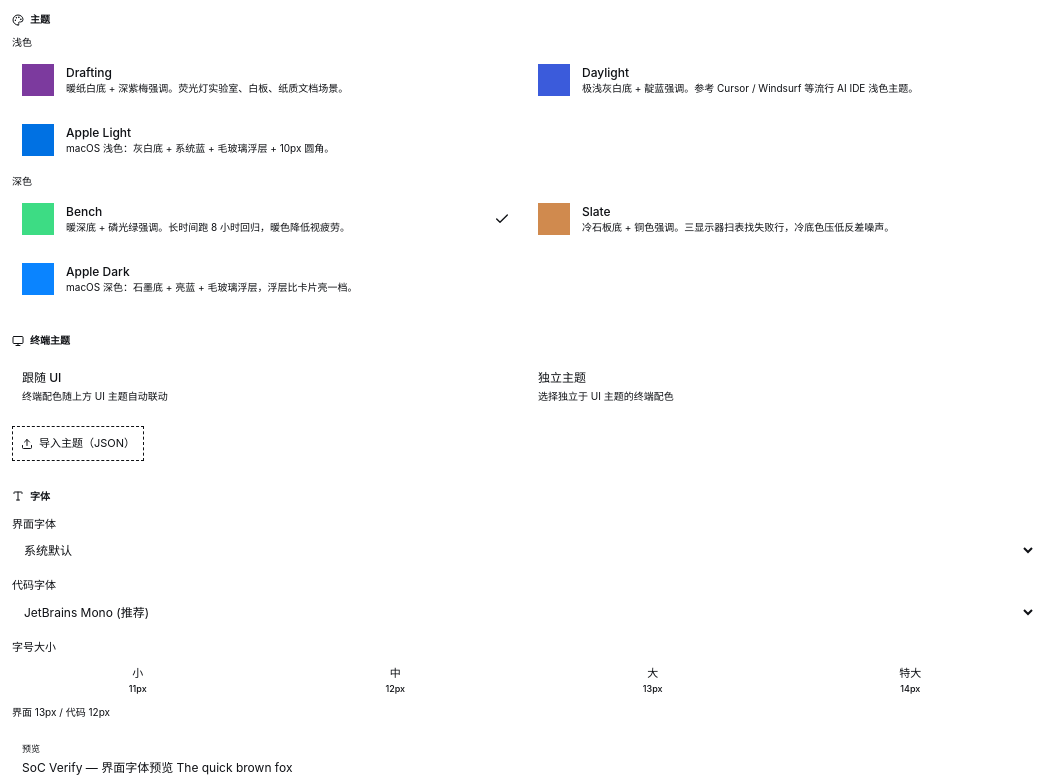
Test: AppearanceTab - 终端主题区块 › 切换为 independent 模式后展示 8 款内置主题卡片
Click the button "独立主题 选择独立于 UI 主题的终端配色" at [562, 378], box [528,360,1036,414]
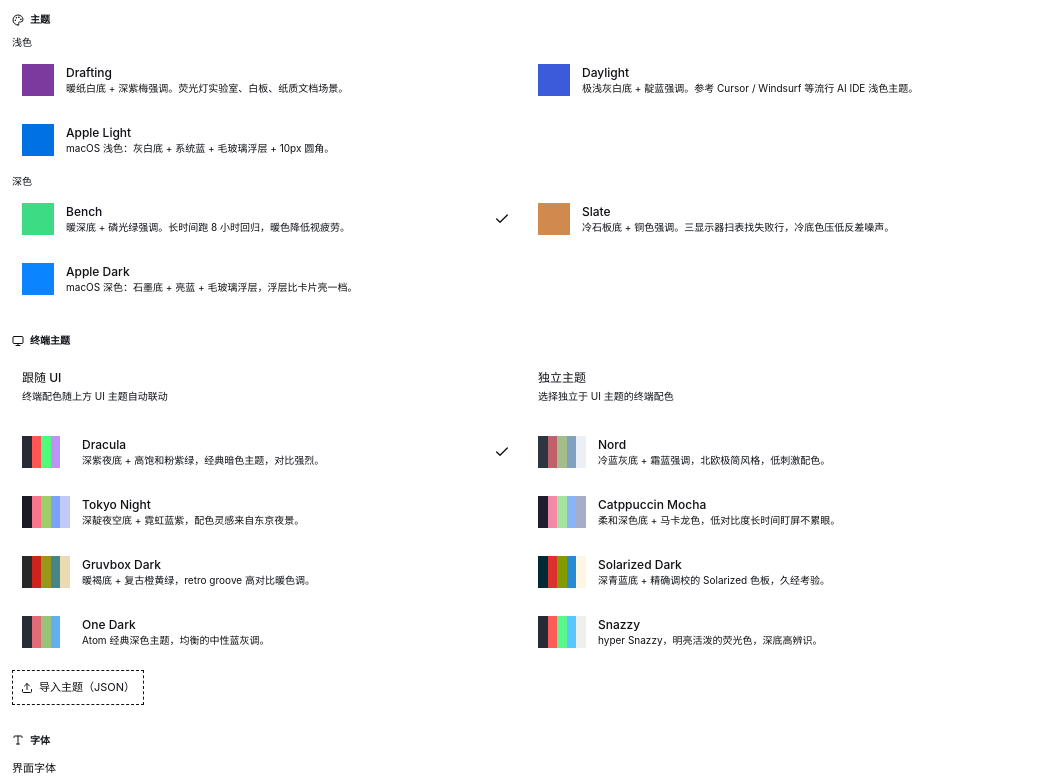
Expected: the text "Dracula" is shown, [82,437,126,452]
Expected: the text "Nord" is shown, [598,437,626,452]
Expected: the text "Tokyo Night" is shown, [82,497,151,512]
